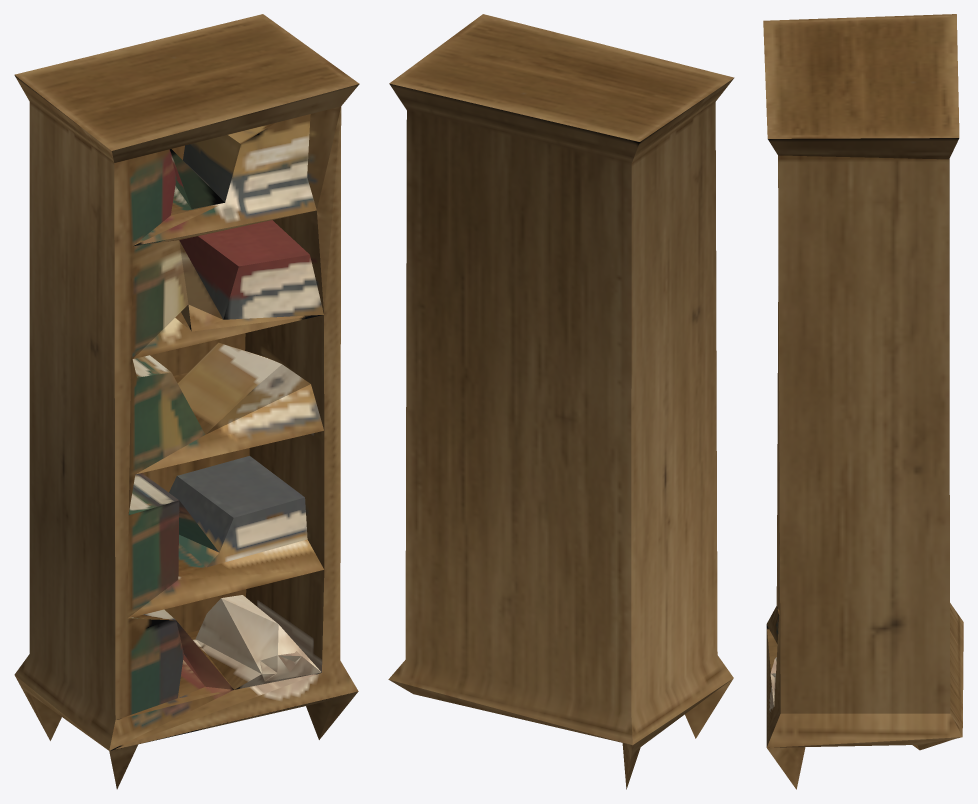
File: bookshelf_lod0.glb
The picture shows the model from 3 angles, left to right: view 1: azimuth 30°, elevation 25°; view 2: azimuth 150°, elevation 25°; view 3: azimuth 270°, elevation 25°; orthographic projection.
Visible parts, largest first — view 1: low; view 2: low; view 3: low.
Boxes of the visible parts, bbox=[...] form: low: bbox=[14, 14, 359, 789]; low: bbox=[388, 14, 734, 789]; low: bbox=[763, 14, 963, 789].
Bounding box in the file's own units: 1.42 × 3.57 × 0.9726.
Materials: 1 (1 with a texture image).
